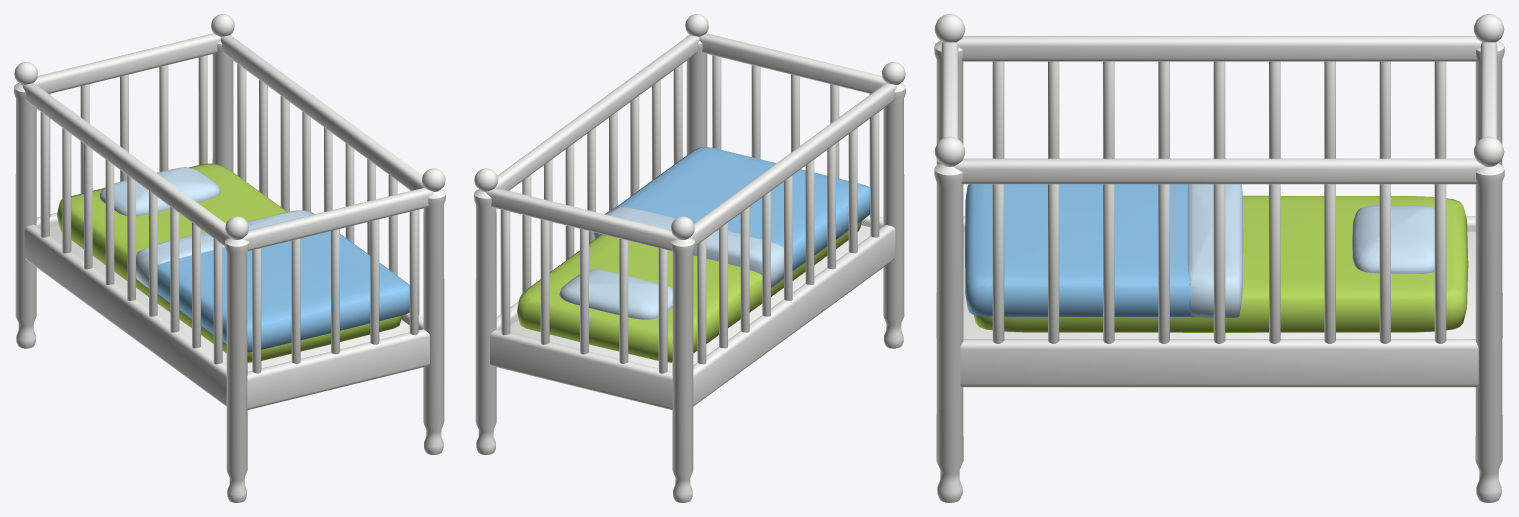
Rendered from berco_classico_branco.glb.
The picture shows the model from 3 angles, left to right: view 1: azimuth 30°, elevation 25°; view 2: azimuth 150°, elevation 25°; view 3: azimuth 270°, elevation 25°; orthographic projection. The views are drawn at different scales.
Visible parts, largest first — view 1: berco_classico_branco; view 2: berco_classico_branco; view 3: berco_classico_branco.
Boxes of the visible parts, x1,y1,x2,y2 form: berco_classico_branco: (14, 14, 445, 502); berco_classico_branco: (474, 14, 905, 502); berco_classico_branco: (934, 14, 1504, 502).
Size of the model in its own units: 0.7755 by 0.9593 by 1.38.
Materials: 1 (1 with a texture image).
